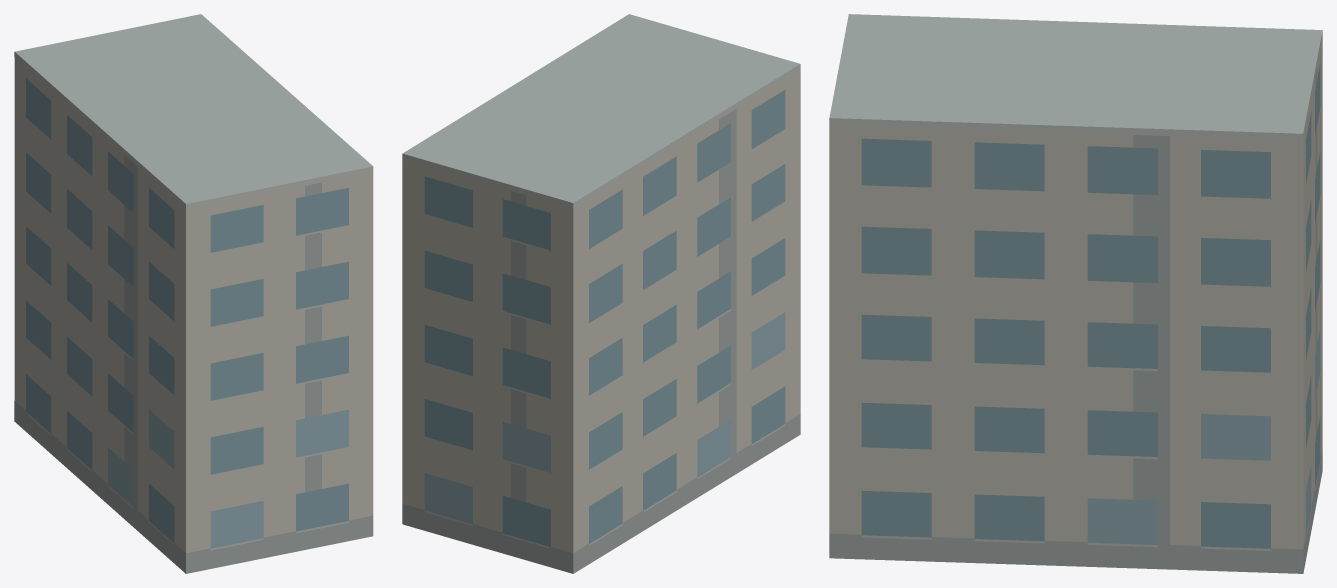
The model's file is survey-upis-32905830.glb.
3 views of the same model, side by side, from view 1: azimuth 30°, elevation 25°; view 2: azimuth 150°, elevation 25°; view 3: azimuth 270°, elevation 25° (orthographic). The views are drawn at different scales.
Visible parts, largest first — view 1: survey-upis-32905830.tmp; view 2: survey-upis-32905830.tmp; view 3: survey-upis-32905830.tmp.
Boxes of the visible parts, x1=… form: survey-upis-32905830.tmp: x1=14, y1=14, x2=373, y2=573; survey-upis-32905830.tmp: x1=402, y1=14, x2=800, y2=573; survey-upis-32905830.tmp: x1=829, y1=14, x2=1322, y2=573.
Size of the model in its own units: 9.23 by 15.8 by 16.06.
